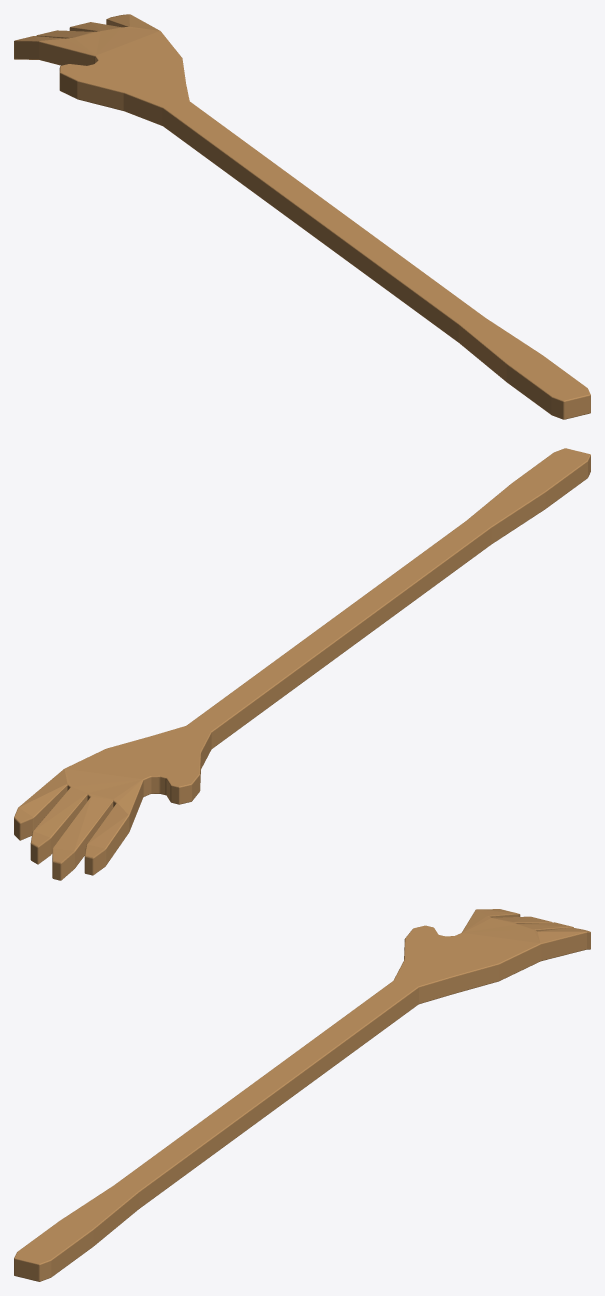
3 views of the same model, one above another, from view 1: azimuth 30°, elevation 25°; view 2: azimuth 150°, elevation 25°; view 3: azimuth 330°, elevation 25° (orthographic). The views are drawn at different scales.
Parts seen in each view (by area): view 1: Hand shaped wooden back scratcher; view 2: Hand shaped wooden back scratcher; view 3: Hand shaped wooden back scratcher.
Boxes of the visible parts, bbox=[...] form: Hand shaped wooden back scratcher: bbox=[14, 14, 590, 419]; Hand shaped wooden back scratcher: bbox=[14, 448, 590, 880]; Hand shaped wooden back scratcher: bbox=[14, 909, 590, 1281].
Bounding box in the file's own units: 0.0559 × 0.0238 × 0.414.
